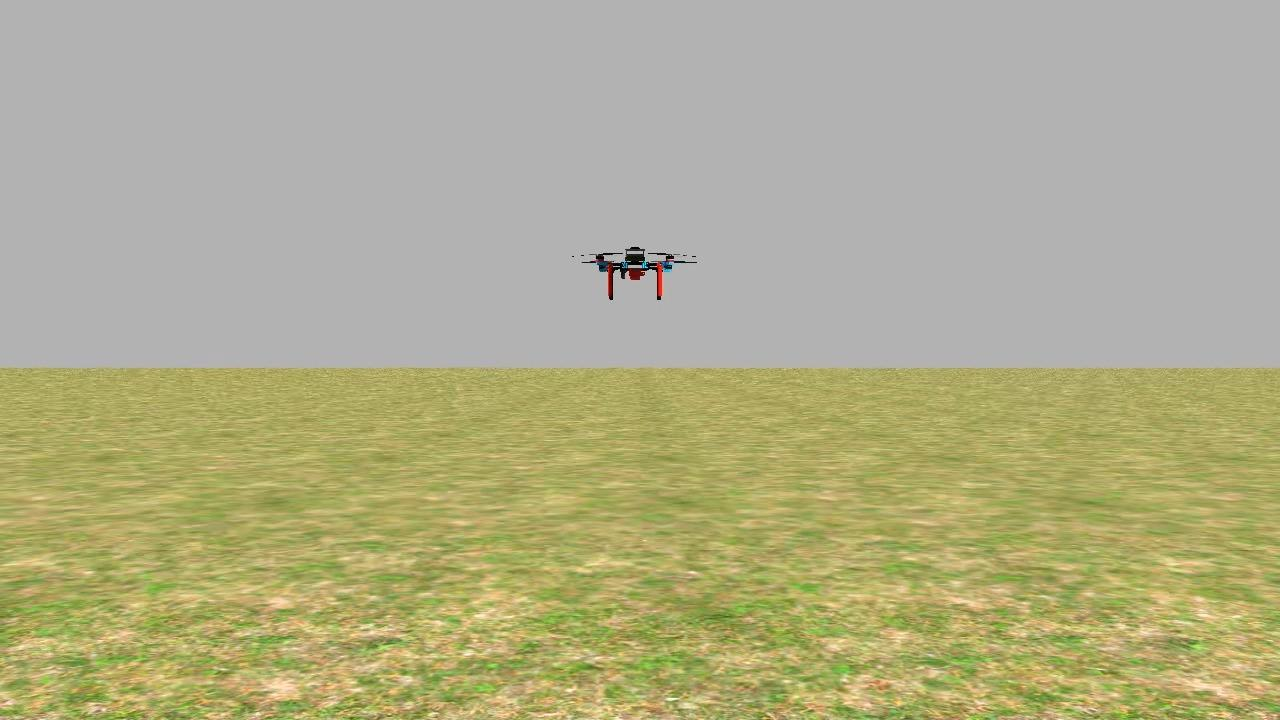UAV: (580, 238, 690, 310)
